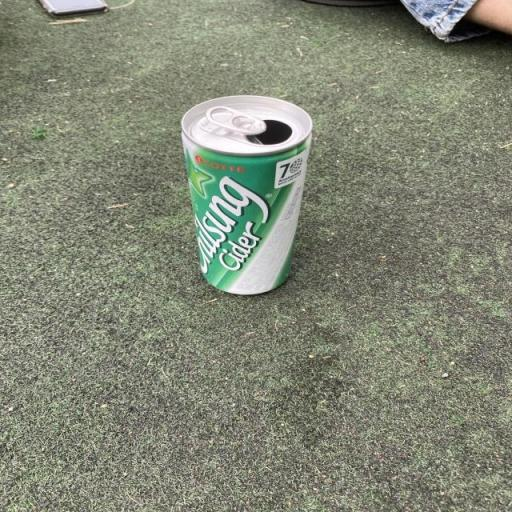metal: (167, 89, 324, 310)
